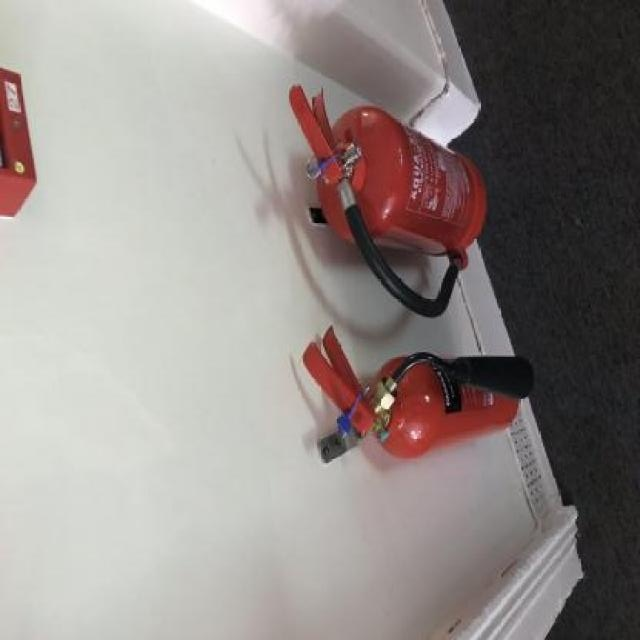fire extinguisher: (287, 84, 485, 319), (302, 324, 533, 465)
